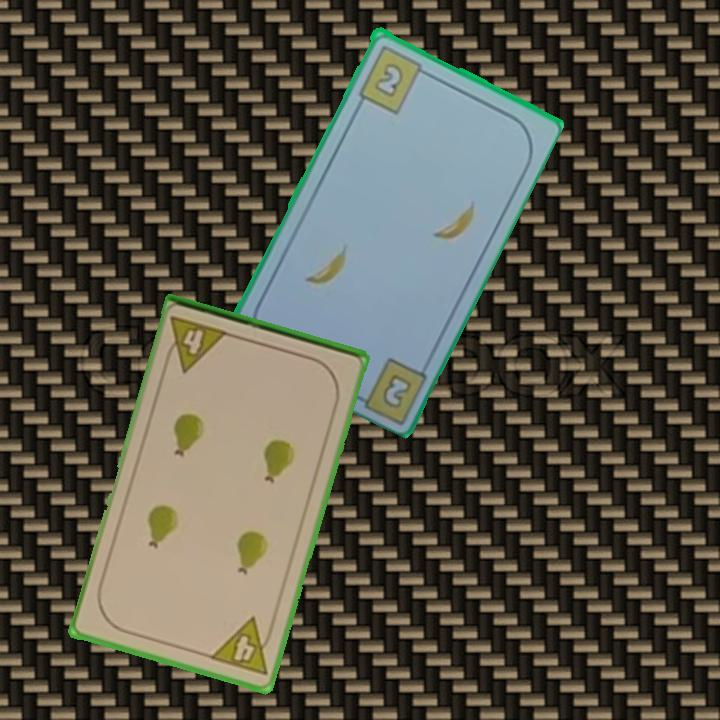2b: (354, 41, 432, 116), (378, 370, 415, 411)
4p: (206, 613, 278, 679), (160, 312, 231, 375)
